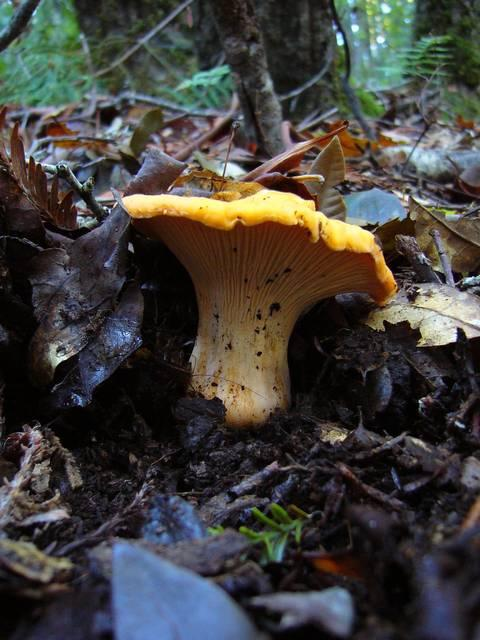edible_mushroom: (118, 179, 398, 431)
